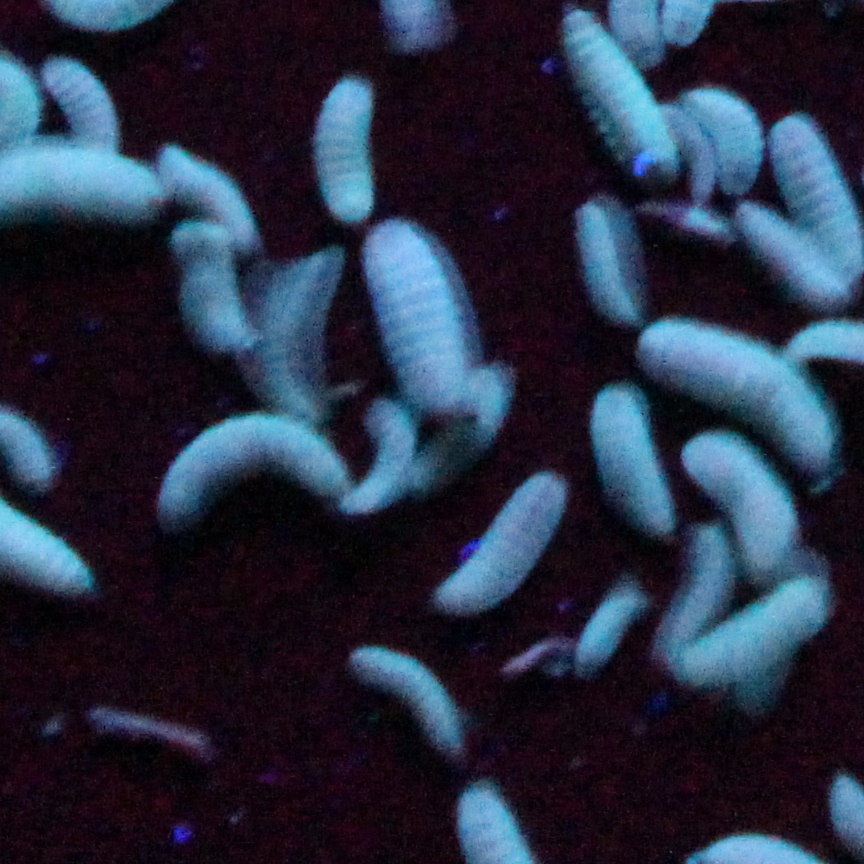larve: (637, 314, 830, 461), (153, 418, 345, 525), (560, 22, 672, 181), (368, 224, 462, 406), (440, 477, 564, 612), (697, 576, 829, 688), (589, 384, 679, 537), (774, 117, 860, 272), (693, 437, 795, 566), (348, 647, 461, 753), (258, 253, 330, 411), (414, 372, 509, 489), (168, 225, 252, 353), (659, 528, 730, 661), (165, 144, 254, 241), (692, 85, 761, 203), (573, 202, 639, 324), (39, 55, 116, 147), (352, 401, 409, 512), (323, 83, 370, 215), (576, 580, 644, 671), (660, 110, 717, 200)
